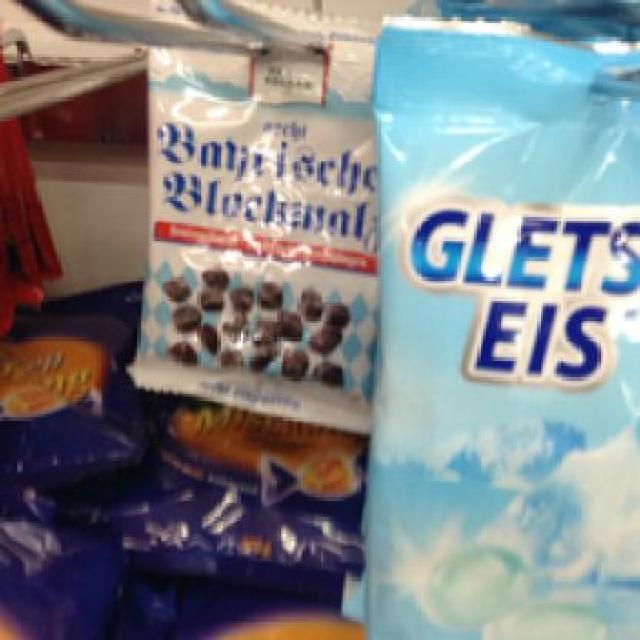Candy: (368, 19, 638, 632), (143, 0, 377, 423)
